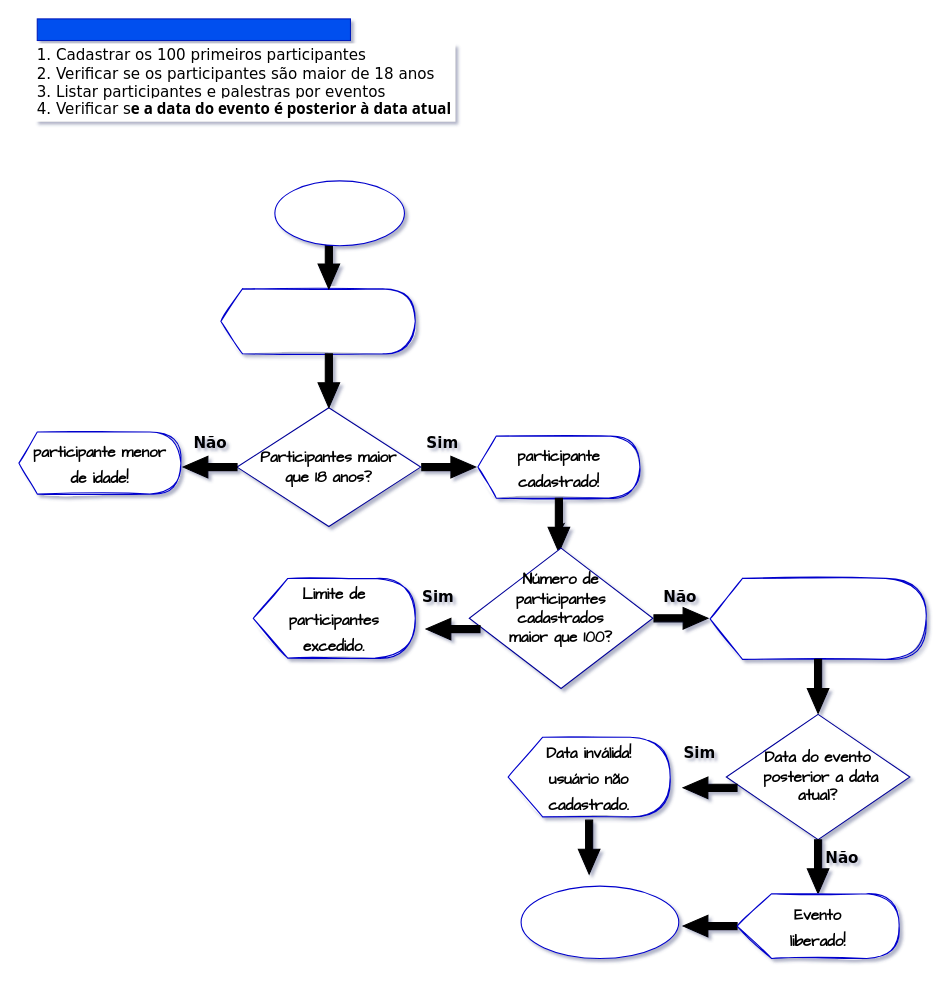
This 951x984 diagram has some shape labels left out. Each missing label, with the centre of its shape:
"Cadastrar participantes do evento" belongs at (317,321).
"FIM" belongs at (599,922).
"Início" belongs at (339,213).
"Lista de participantes cadastrados por palestras e evento." belongs at (817,618).
"Sistema de cadastro para eventos." belongs at (193,29).
